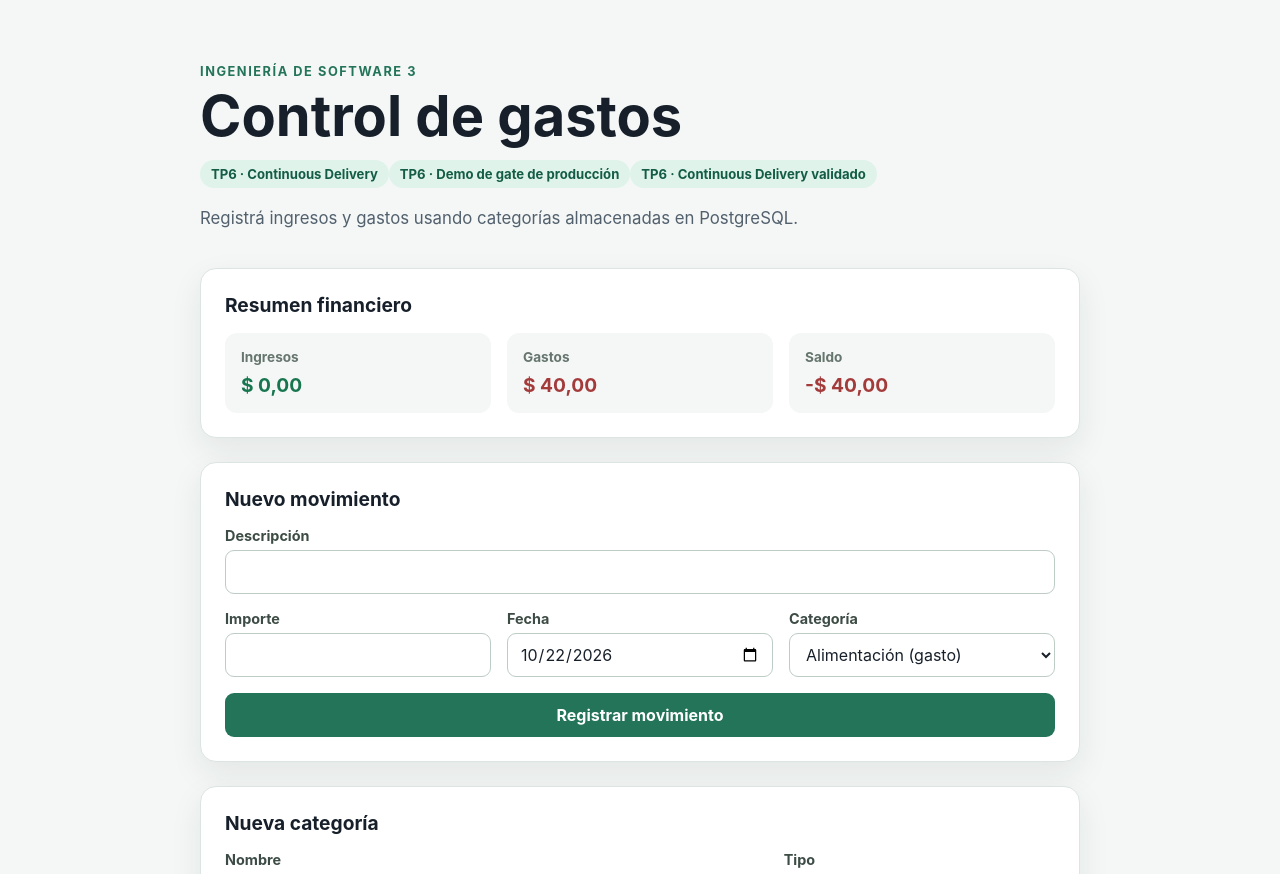
Test: MovementsPage › agrega un movimiento y actualiza el resumen
Expected: the dropdown labelled "Categoría" shows "Alimentación (gasto)", [789,633,1055,677]
Type "Nueva compra" into the field labelled "Descripción" at (640, 572), box [225,550,1055,594]
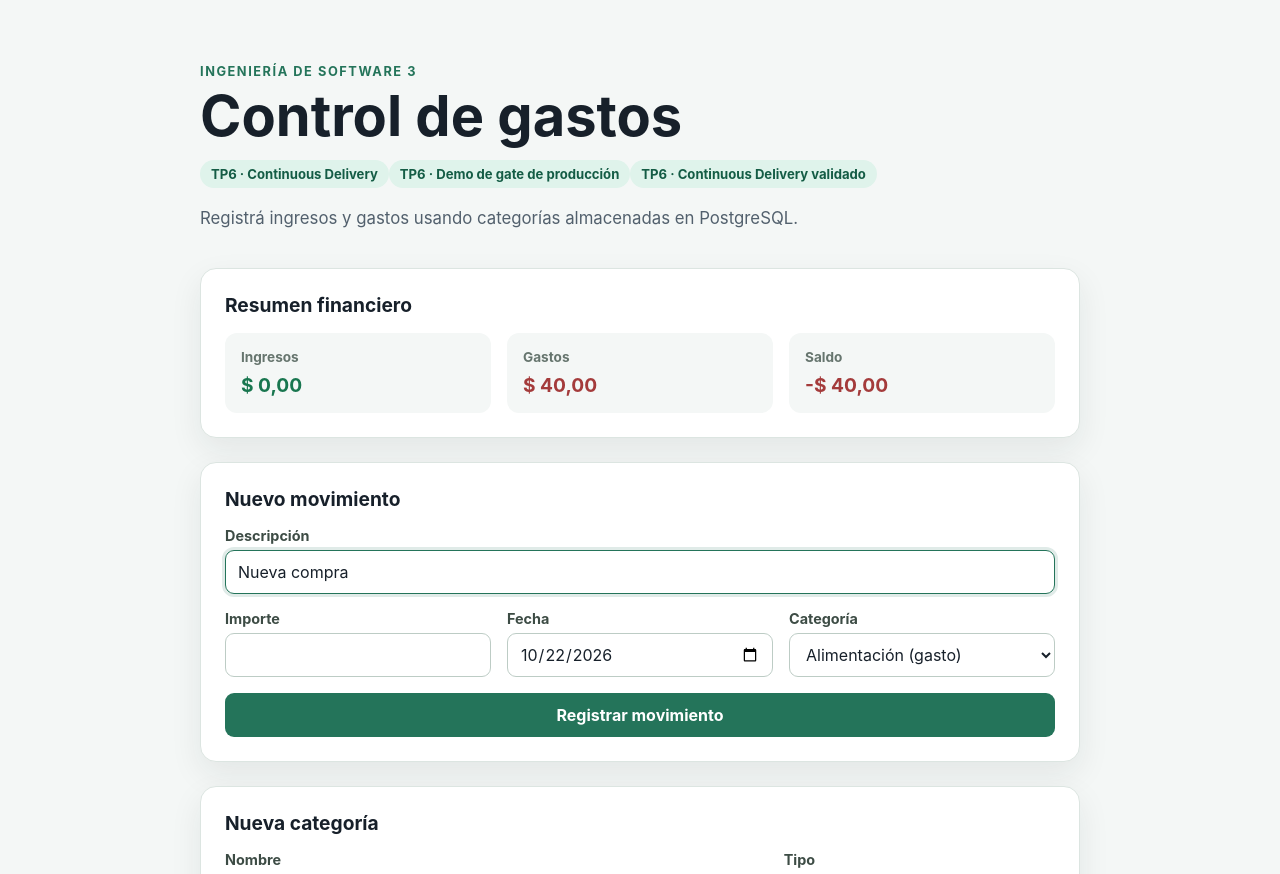
Type "25" into the number field labelled "Importe" at (358, 655), box [225,633,491,677]
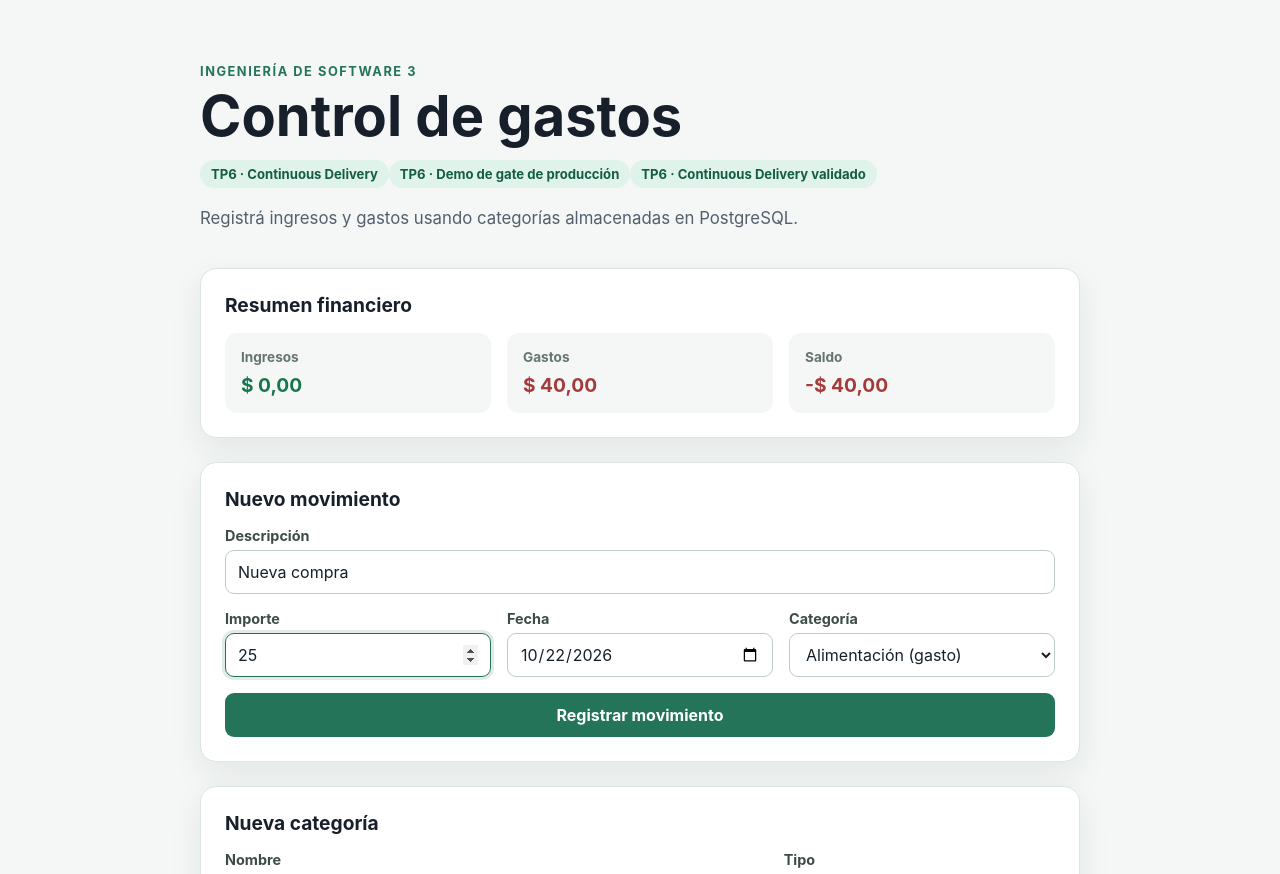
Type "2026-10-09" into the date field labelled "Fecha" at (640, 655), box [507,633,773,677]
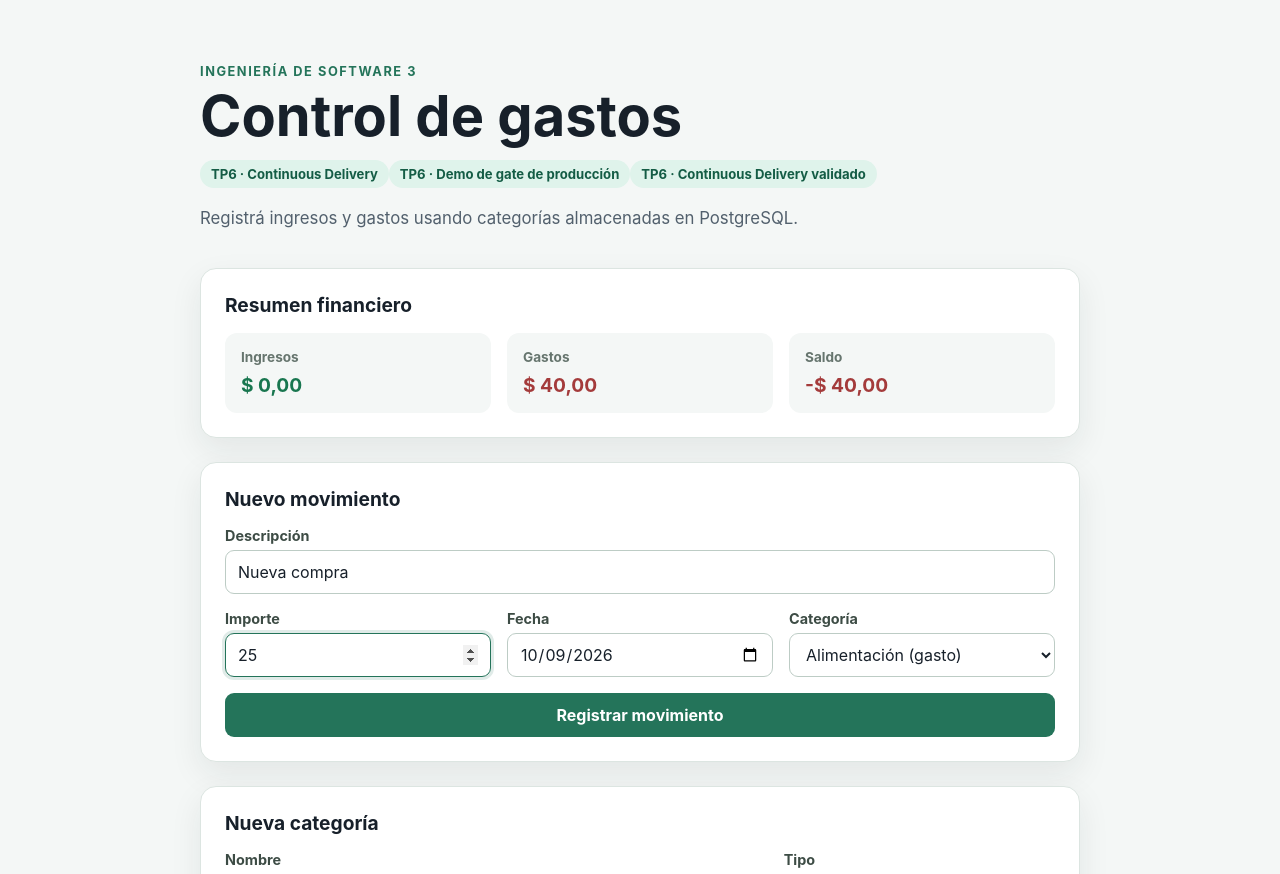
Submit the form "Registrar movimiento", box [225,527,1055,737]
(page scrolled)
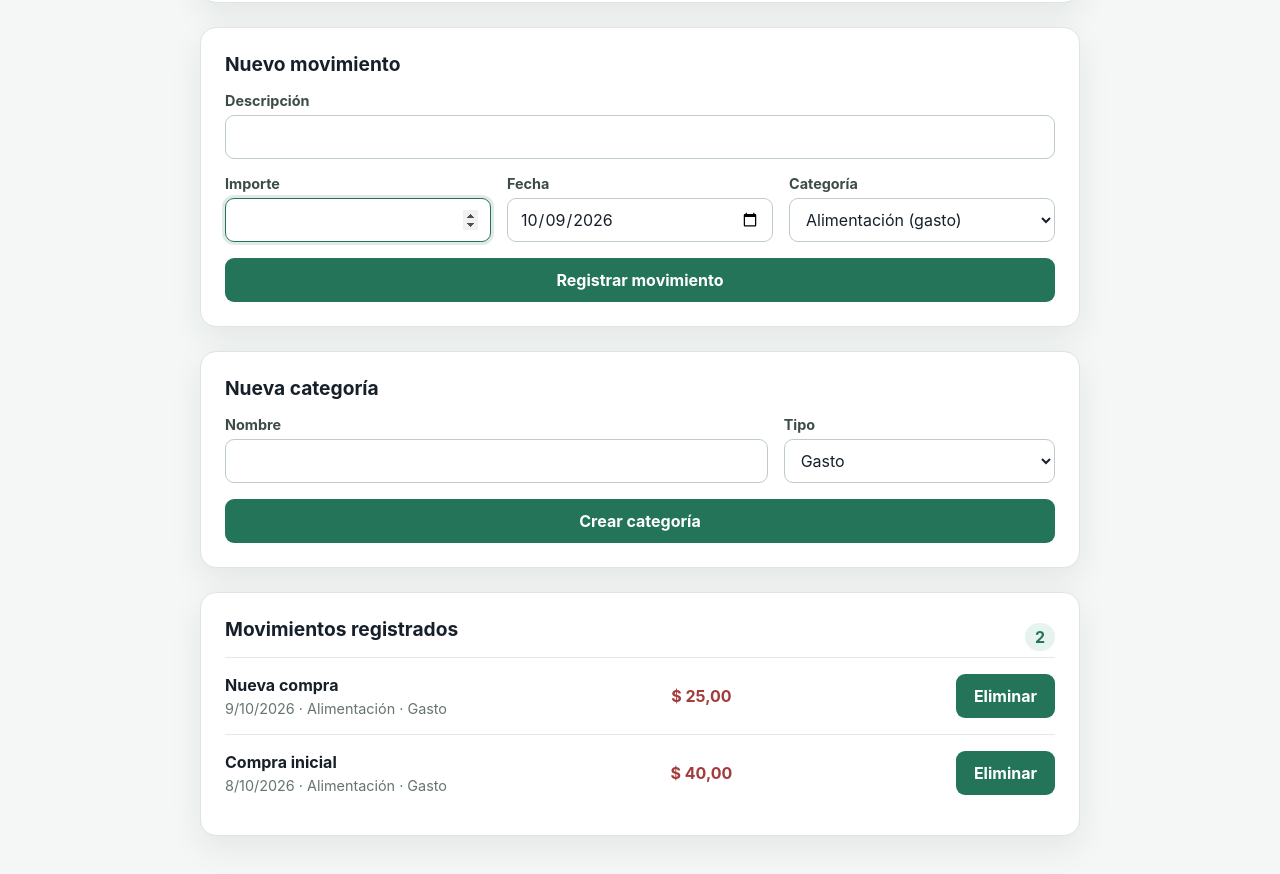
Result: the text "Nueva compra" is shown at [225,675,338,695]
